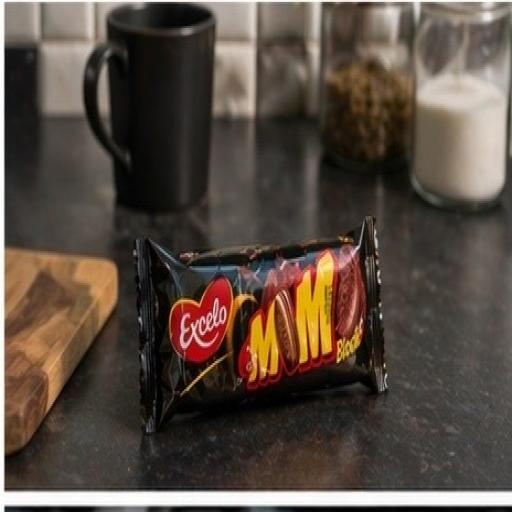MOMO: (108, 180, 418, 463)
